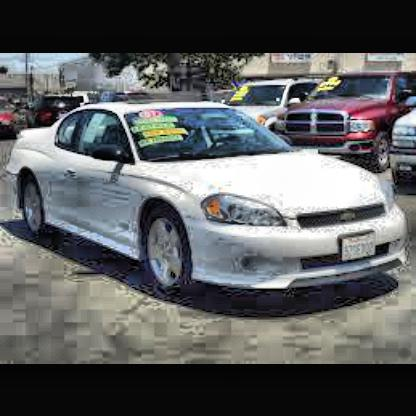Chevrolet Monte Carlo Coupe 2007: (11, 102, 407, 297)
